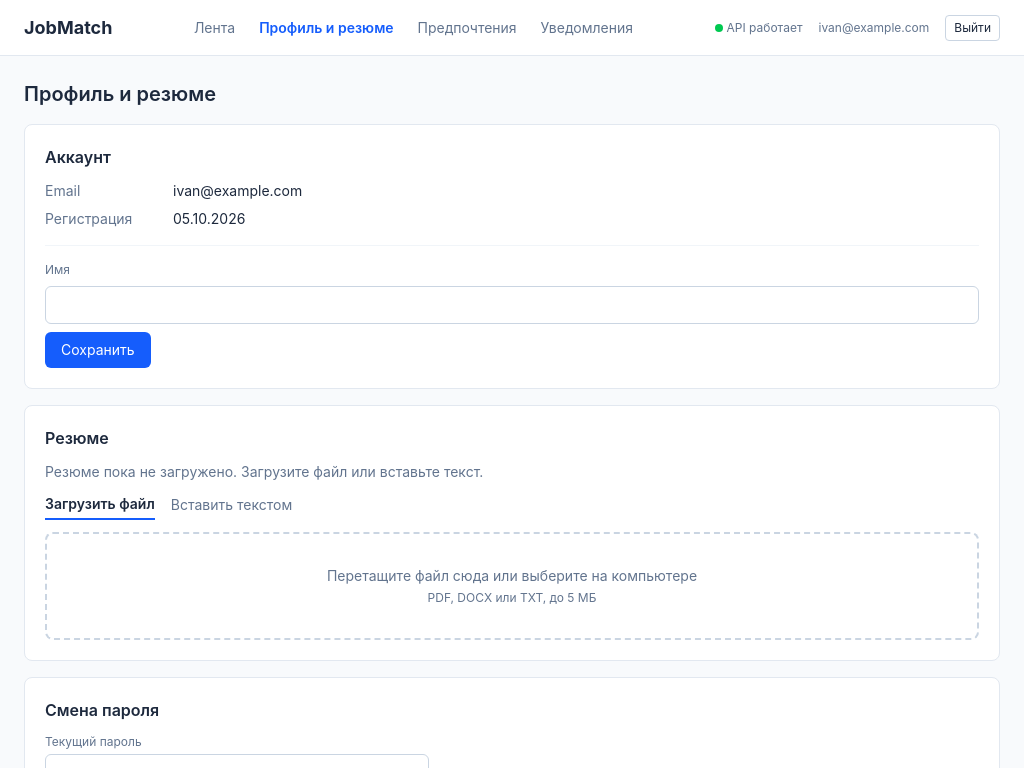
Scenario: резюме текстом › слишком короткий текст не отправляется
The image size is (1024, 768).
Click the button "Вставить текстом": (232, 507) [171, 494, 292, 520]
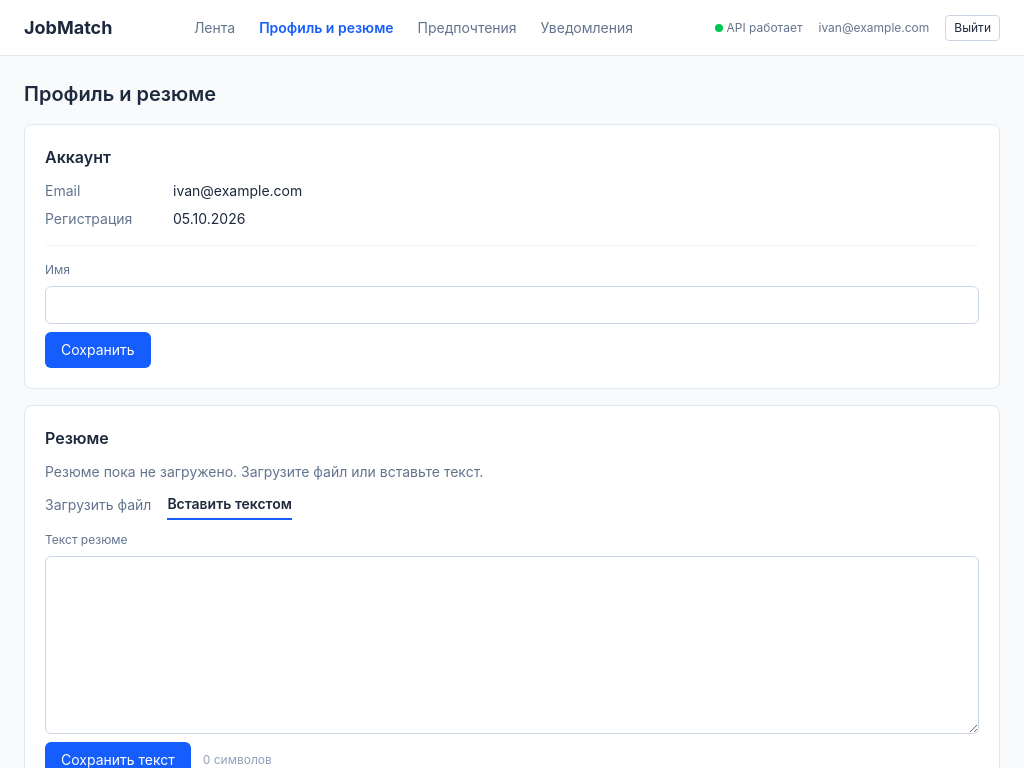
In the text box labelled "Текст резюме": (512, 645) [45, 556, 979, 734], type "коротко"
(page scrolled)
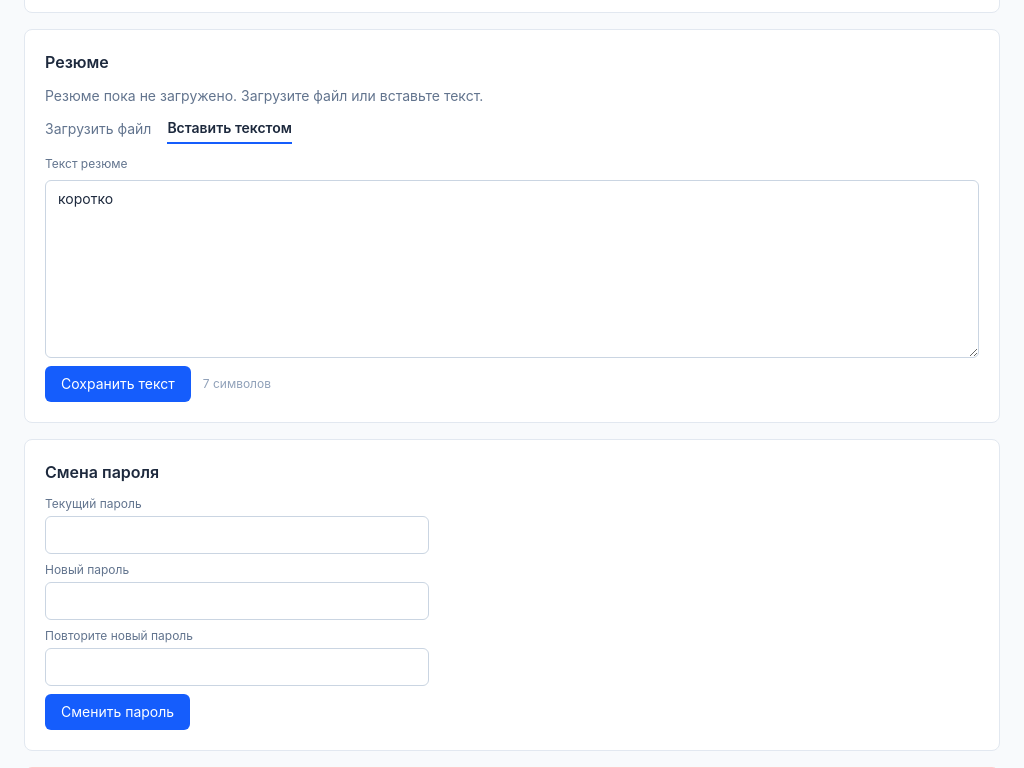
Click the button "Сохранить текст": (118, 384) [45, 366, 191, 402]
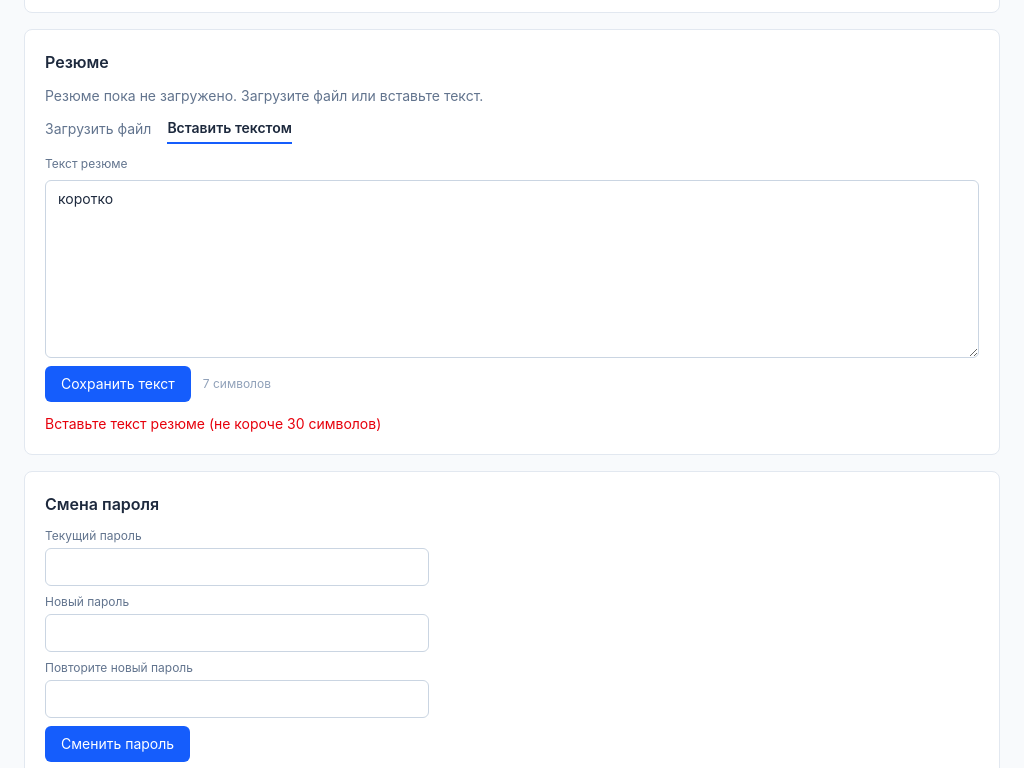
Now the message shows "не короче 30", box [45, 415, 381, 432]
